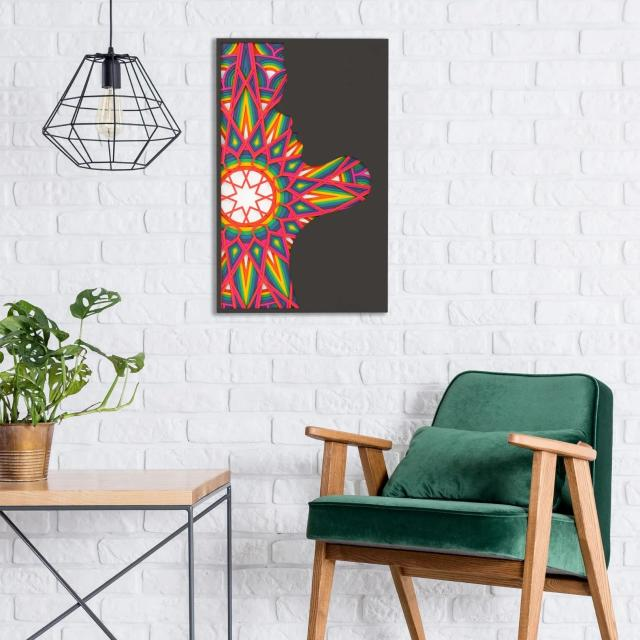painting: (212, 38, 388, 311)
